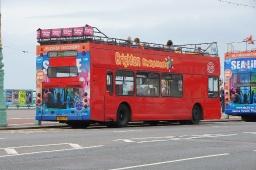bus: (35, 24, 224, 128)
